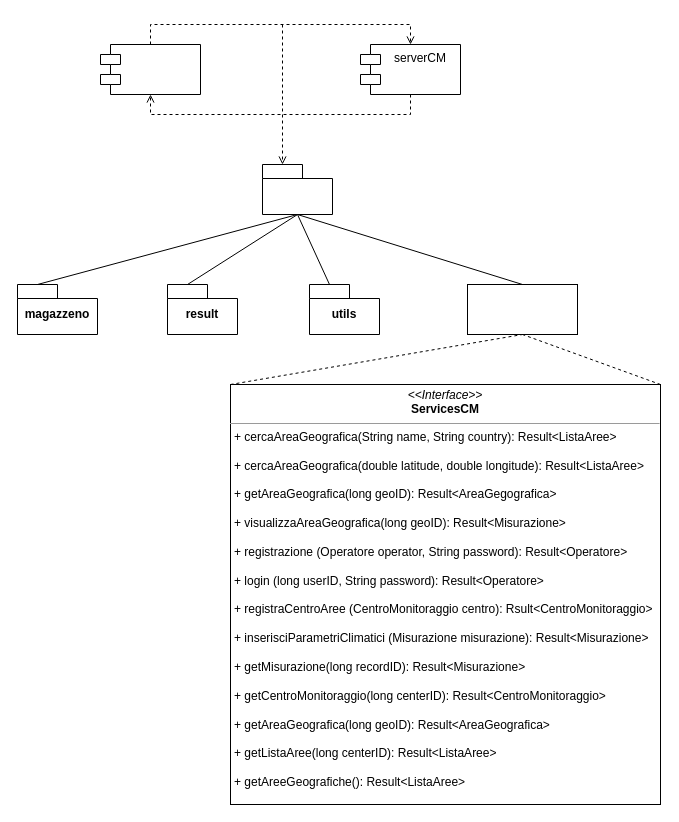
Some shapes in this 679 by 822 pixel diagram are drawn without their labels. The shapes that lost their labels are listed below. From the top down, each one's centre as x and y in pixels, then its label:
At pixel 150 69: "clientCM".
At pixel 297 189: "commons".
At pixel 522 309: "«interface» ServicesCM".
